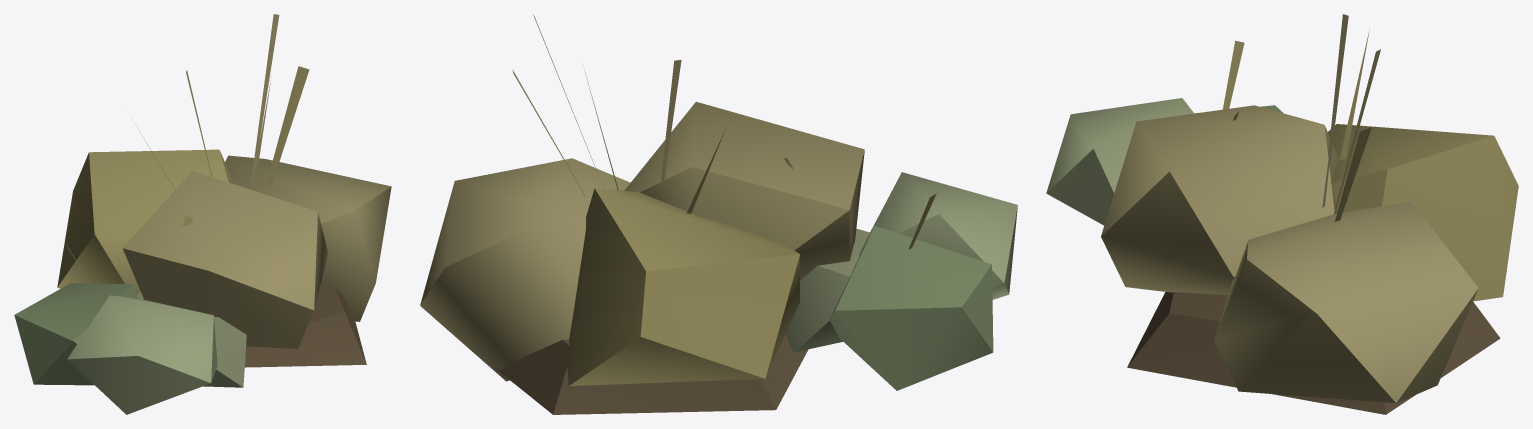
Rendered from bursage_b_lod2.glb.
3 renders of one model, left to right at view 1: azimuth 30°, elevation 25°; view 2: azimuth 150°, elevation 25°; view 3: azimuth 270°, elevation 25°, orthographic. The views are drawn at different scales.
Visible parts, largest first — view 1: Surface.001; view 2: Surface.001; view 3: Surface.001.
Part boxes in pixels (<box>): Surface.001: <box>14,14,391,414</box>; Surface.001: <box>420,15,1017,414</box>; Surface.001: <box>1046,14,1518,414</box>.
Bounding box in the file's own units: 1.98 × 1.33 × 1.69.
